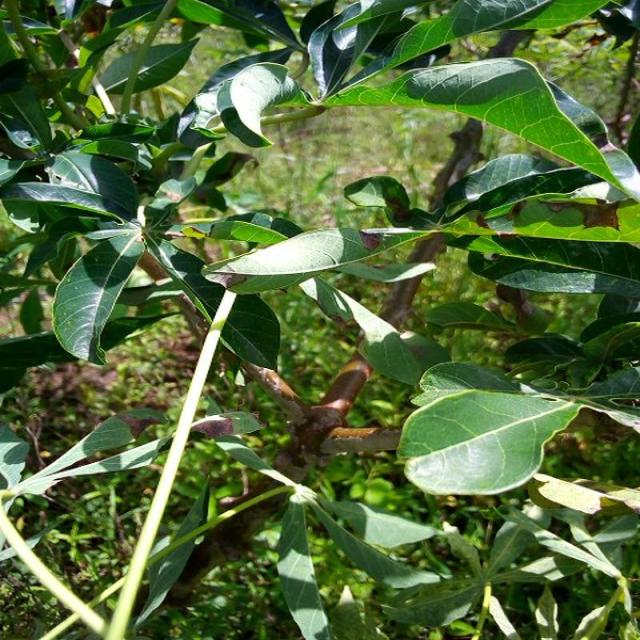cassava leaf: (403, 56, 633, 202), (396, 385, 580, 496), (51, 220, 145, 366)
